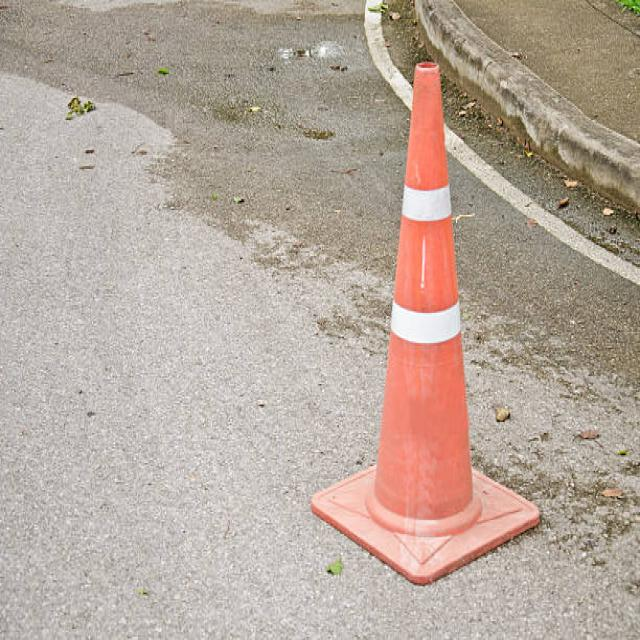Traffic Cone: (302, 30, 554, 606)
